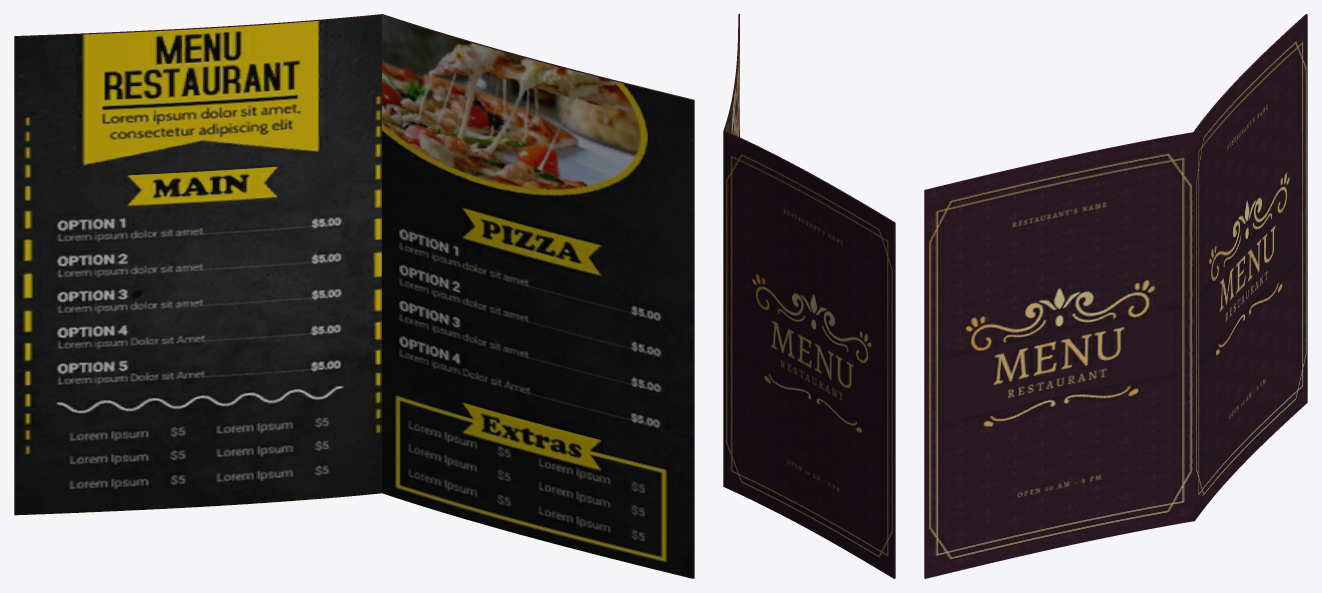
The model's file is SM_Menu.glb.
The picture shows the model from 3 angles, left to right: view 1: azimuth 30°, elevation 25°; view 2: azimuth 150°, elevation 25°; view 3: azimuth 270°, elevation 25°; orthographic projection. The views are drawn at different scales.
Parts seen in each view (by area): view 1: SM_Menu; view 2: SM_Menu; view 3: SM_Menu.
Boxes of the visible parts, x1,y1,x2,y2 form: SM_Menu: (14,14,694,578); SM_Menu: (723,14,895,578); SM_Menu: (924,14,1307,578).
Size of the model in its own units: 0.209 by 0.2142 by 0.1917.
Materials: 1 (1 with a texture image).
